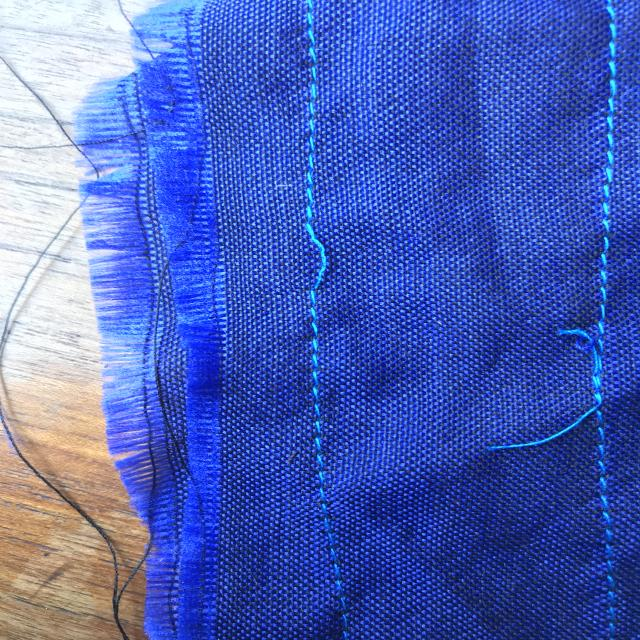good: (298, 344, 336, 480)
skip: (285, 205, 355, 320)
